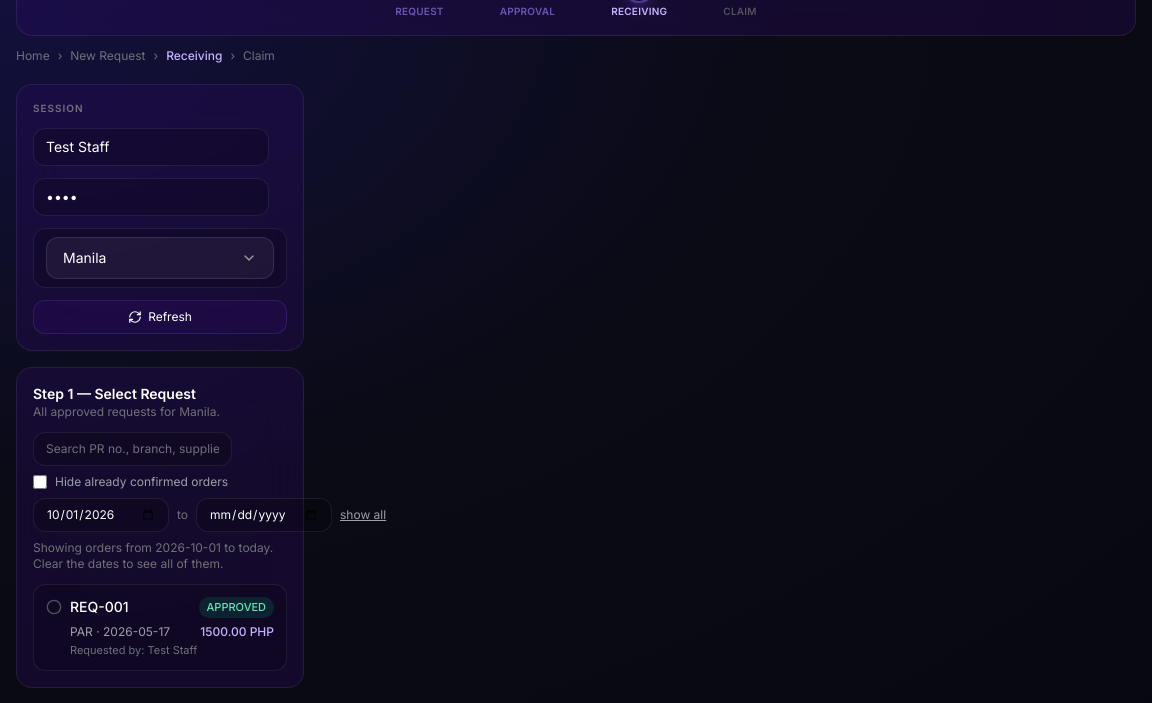
Fix 4: Receiving page — All received 2-step guard › first click on 'All received' shows confirmation — does NOT immediately check all
(page scrolled)
Click the text "REQ-001" at (99, 607), box x1=70 y1=597 x2=129 y2=617
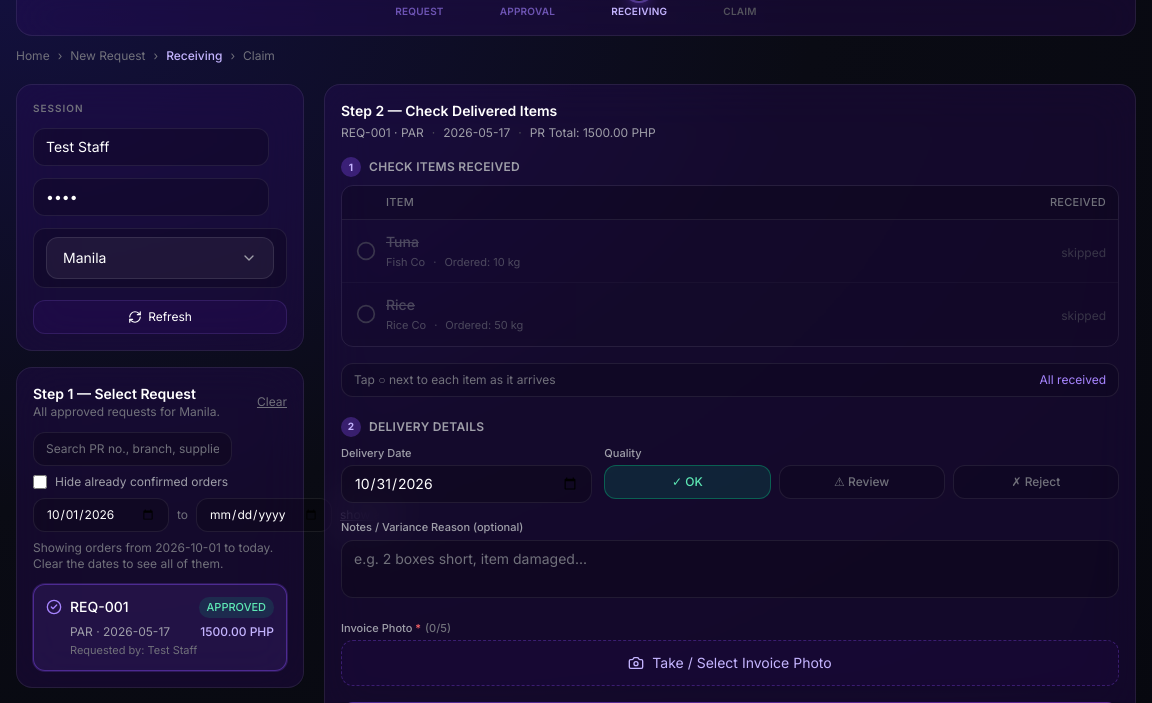
Result: the text "Tuna" is shown at x1=386 y1=232 x2=419 y2=250
Click the button "All received" at (1073, 380), box x1=1040 y1=372 x2=1106 y2=388
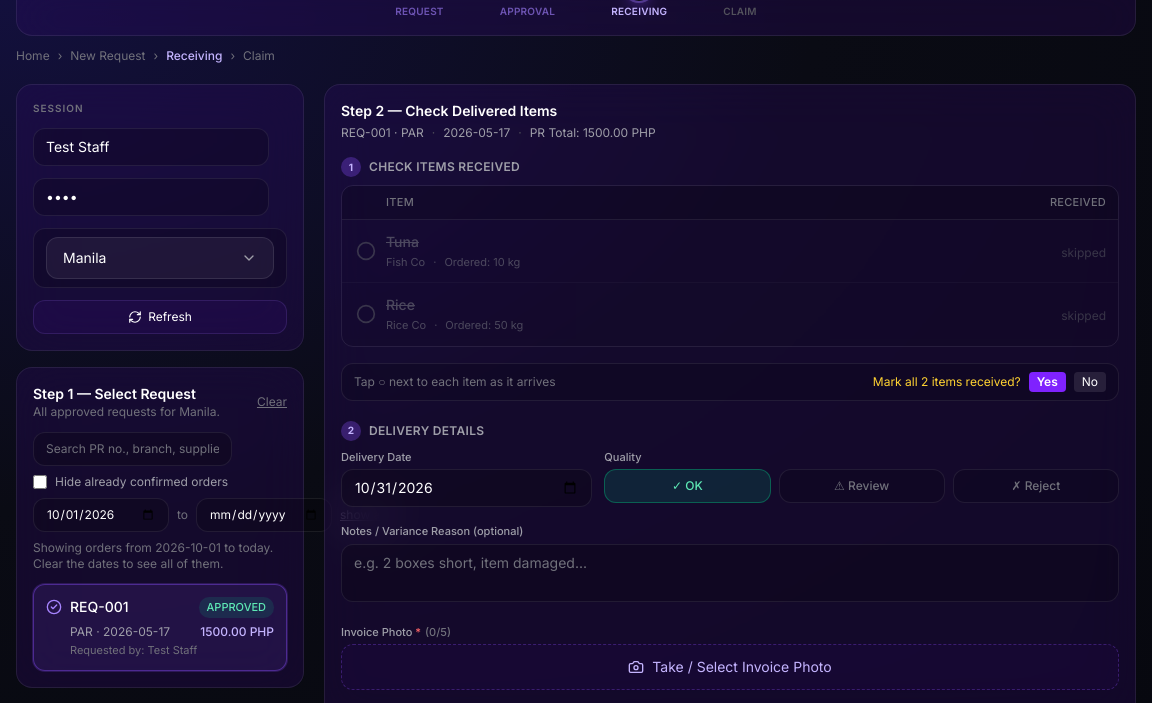
Result: the text "Mark all 2 items received?" is shown at x1=873 y1=374 x2=1021 y2=390
Result: the button "Yes" is shown at x1=1029 y1=372 x2=1066 y2=392
Result: the button "No" is shown at x1=1074 y1=372 x2=1106 y2=392
